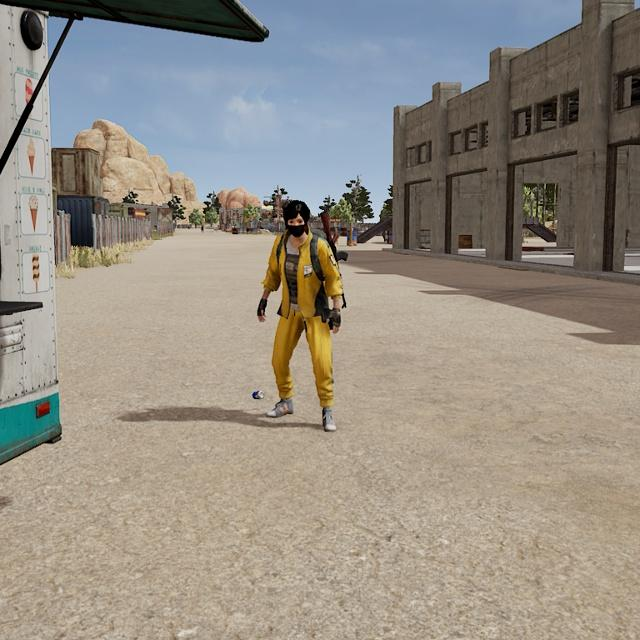head: (283, 198, 310, 239)
people: (254, 198, 346, 433)
